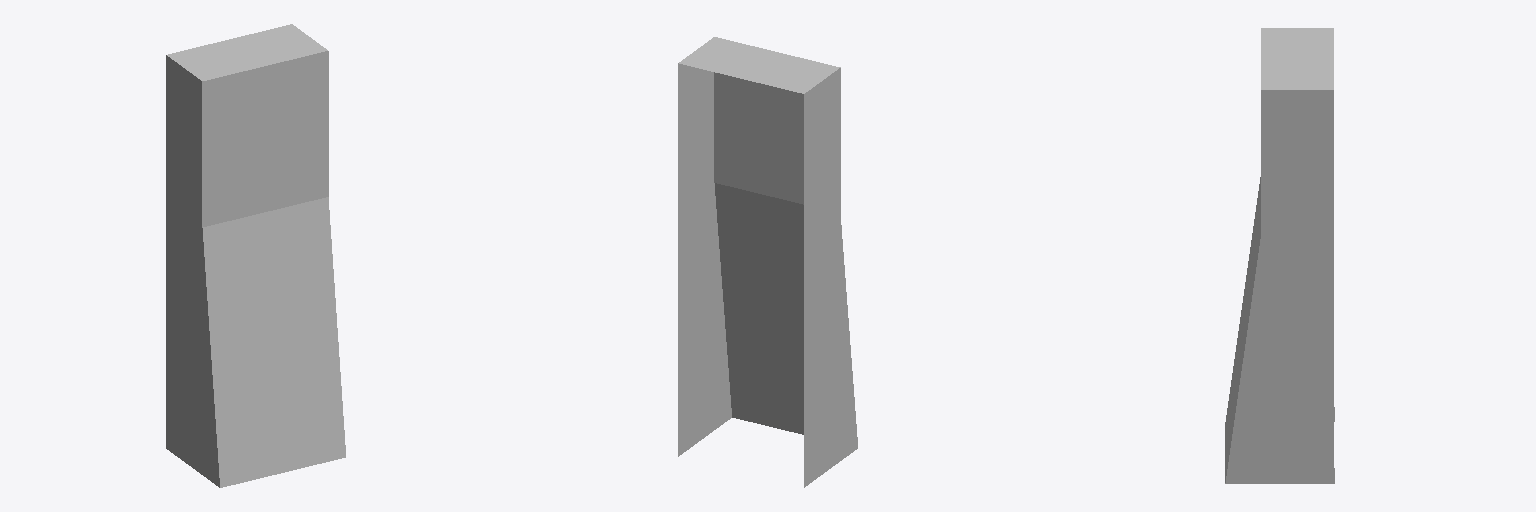
The model's file is obsticle1.obj.
3 renders of one model, left to right at view 1: azimuth 30°, elevation 25°; view 2: azimuth 150°, elevation 25°; view 3: azimuth 270°, elevation 25°, orthographic.
Visible parts, largest first — view 1: Cube_Cube.001; view 2: Cube_Cube.001; view 3: Cube_Cube.001.
Boxes of the visible parts, x1,y1,x2,y2 form: Cube_Cube.001: [166, 24, 345, 487]; Cube_Cube.001: [678, 37, 857, 487]; Cube_Cube.001: [1225, 28, 1334, 483].
Bounding box in the file's own units: 1.3 × 3.89 × 0.9763.